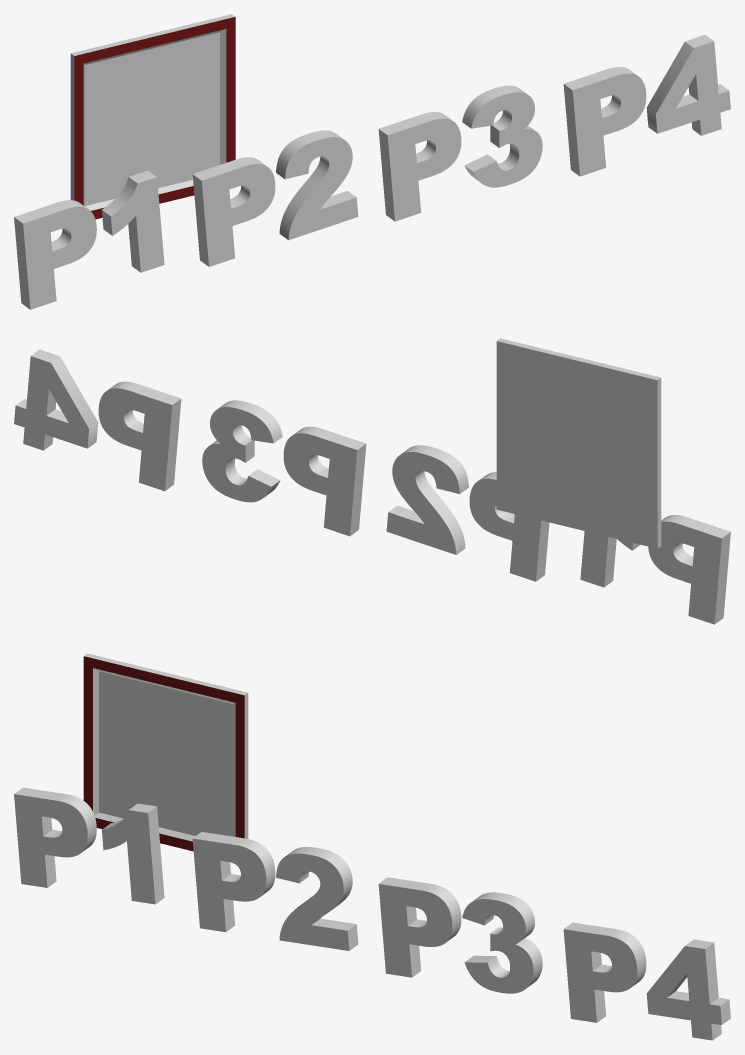
Rendered from HUD_Kills.FBX.
3 renders of one model, top to bottom at view 1: azimuth 30°, elevation 25°; view 2: azimuth 150°, elevation 25°; view 3: azimuth 330°, elevation 25°, orthographic.
Visible parts, largest first — view 1: Rectangle001, Text003, Text007, Text005, Text001; view 2: Rectangle001, Text007, Text005, Text003, Text001; view 3: Rectangle001, Text003, Text005, Text007, Text001.
Boxes of the visible parts, <box> form: Rectangle001: <box>70,14,235,219</box>; Text003: <box>192,130,358,266</box>; Text007: <box>563,35,730,176</box>; Text005: <box>378,85,542,221</box>; Text001: <box>14,170,164,309</box>; Rectangle001: <box>496,338,661,548</box>; Text007: <box>14,349,181,491</box>; Text005: <box>202,400,366,536</box>; Text003: <box>386,445,549,581</box>; Text001: <box>580,515,730,624</box>; Rectangle001: <box>83,653,248,851</box>; Text003: <box>192,832,358,950</box>; Text005: <box>378,877,542,993</box>; Text007: <box>563,922,730,1040</box>; Text001: <box>14,787,164,904</box>.
Size of the model in its own units: 873 by 277 by 27.48.
